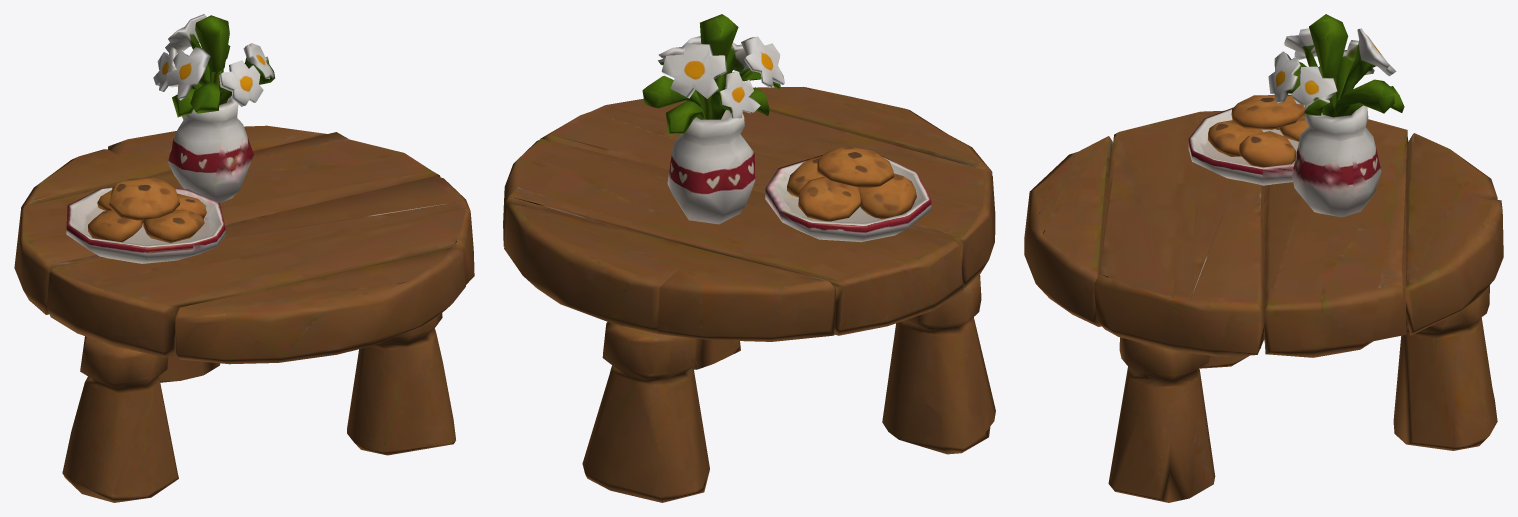
The model's file is table_ronde.glb.
3 renders of one model, left to right at view 1: azimuth 30°, elevation 25°; view 2: azimuth 150°, elevation 25°; view 3: azimuth 270°, elevation 25°, orthographic. The views are drawn at different scales.
Parts seen in each view (by area): view 1: geometry_0; view 2: geometry_0; view 3: geometry_0.
Boxes of the visible parts, x1,y1,x2,y2 form: geometry_0: (14, 14, 474, 502); geometry_0: (503, 14, 995, 502); geometry_0: (1024, 14, 1503, 502).
Bounding box in the file's own units: 0.9619 × 0.8926 × 0.956.
Materials: 1 (1 with a texture image).
